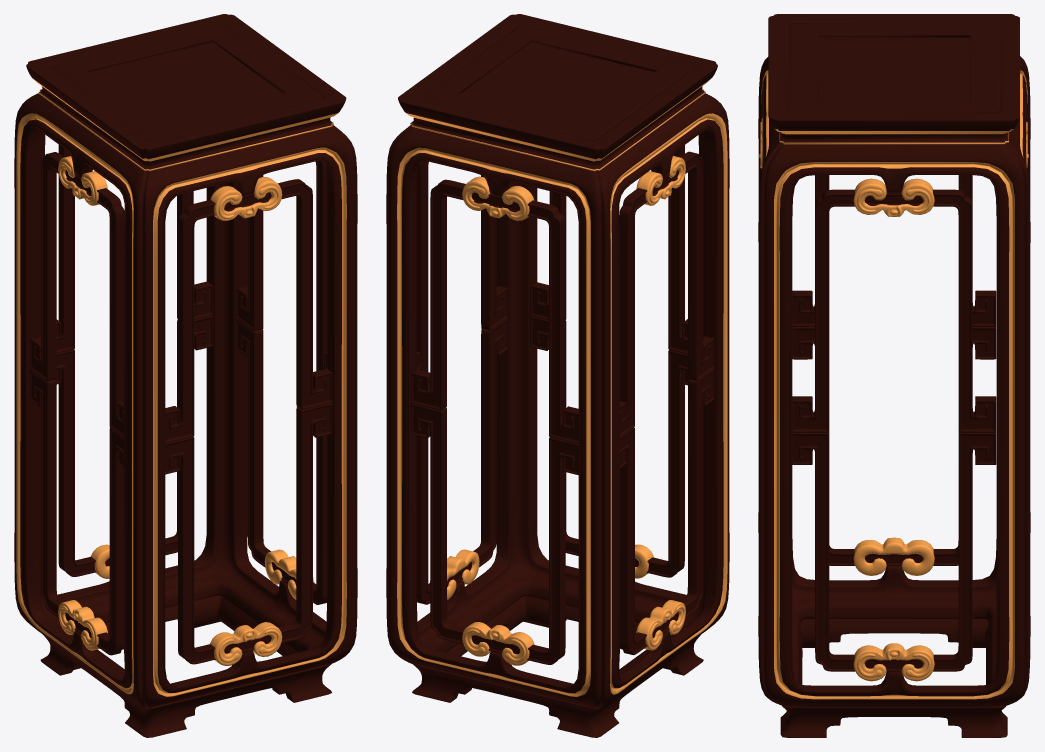
The model's file is Don.fbx.
The picture shows the model from 3 angles, left to right: view 1: azimuth 30°, elevation 25°; view 2: azimuth 150°, elevation 25°; view 3: azimuth 270°, elevation 25°; orthographic projection. The views are drawn at different scales.
Visible parts, largest first — view 1: Box1579911, Box1580221, Box1579920, Rectangle111113338, Box1579906, Box1580222, Box1579922, Box1579940, Box1579941, Box1579938, Box1579939; view 2: Box1579911, Box1580221, Box1579920, Rectangle111113338, Box1579906, Box1580222, Box1579922, Box1579939, Box1579938, Box1579941, Box1579940; view 3: Box1579911, Box1579920, Rectangle111113338, Box1579906, Box1579922, Box1579941, Box1579938, Box1579939, Box1579940.
Boxes of the visible parts, x1=… form: Box1579911: x1=14, y1=93, x2=357, y2=707; Box1580221: x1=56, y1=145, x2=332, y2=664; Box1579920: x1=29, y1=152, x2=326, y2=655; Rectangle111113338: x1=26, y1=14, x2=346, y2=171; Box1579906: x1=89, y1=42, x2=282, y2=123; Box1580222: x1=91, y1=177, x2=282, y2=665; Box1579922: x1=58, y1=156, x2=314, y2=650; Box1579940: x1=93, y1=671, x2=240, y2=737; Box1579941: x1=237, y1=643, x2=331, y2=702; Box1579938: x1=165, y1=595, x2=258, y2=630; Box1579939: x1=40, y1=621, x2=109, y2=680; Box1579911: x1=386, y1=93, x2=729, y2=708; Box1580221: x1=411, y1=145, x2=688, y2=664; Box1579920: x1=417, y1=151, x2=714, y2=655; Rectangle111113338: x1=398, y1=14, x2=717, y2=171; Box1579906: x1=461, y1=42, x2=654, y2=123; Box1580222: x1=462, y1=176, x2=653, y2=665; Box1579922: x1=430, y1=156, x2=685, y2=650; Box1579939: x1=504, y1=671, x2=650, y2=737; Box1579938: x1=412, y1=643, x2=507, y2=702; Box1579941: x1=485, y1=595, x2=578, y2=630; Box1579940: x1=635, y1=622, x2=703, y2=679; Box1579911: x1=758, y1=56, x2=1030, y2=707; Box1579920: x1=792, y1=175, x2=996, y2=671; Rectangle111113338: x1=768, y1=14, x2=1019, y2=144; Box1579906: x1=818, y1=37, x2=970, y2=99; Box1579922: x1=853, y1=178, x2=934, y2=681; Box1579941: x1=780, y1=668, x2=894, y2=737; Box1579938: x1=894, y1=667, x2=1007, y2=737; Box1579939: x1=894, y1=619, x2=988, y2=670; Box1579940: x1=800, y1=619, x2=894, y2=670.
Bounding box in the file's own units: 410 × 1045 × 414.
